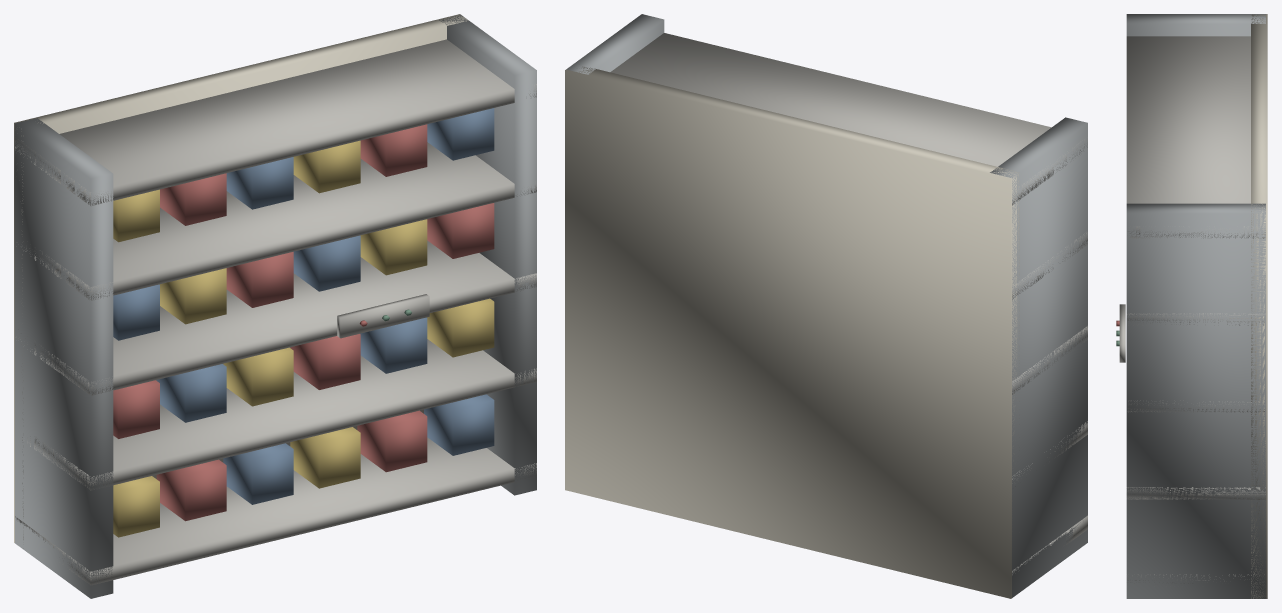
The model's file is retail_gondola__squat.glb.
The picture shows the model from 3 angles, left to right: view 1: azimuth 30°, elevation 25°; view 2: azimuth 150°, elevation 25°; view 3: azimuth 270°, elevation 25°; orthographic projection. The views are drawn at different scales.
Parts seen in each view (by area): view 1: world; view 2: world; view 3: world.
Boxes of the visible parts, bbox=[...] form: world: bbox=[14, 14, 536, 598]; world: bbox=[565, 14, 1087, 598]; world: bbox=[1116, 14, 1267, 598].
Bounding box in the file's own units: 1.54 × 1.39 × 0.4925.
